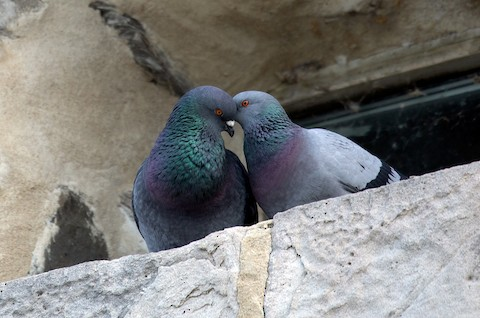pigeon: (228, 86, 419, 240), (115, 85, 267, 266)
